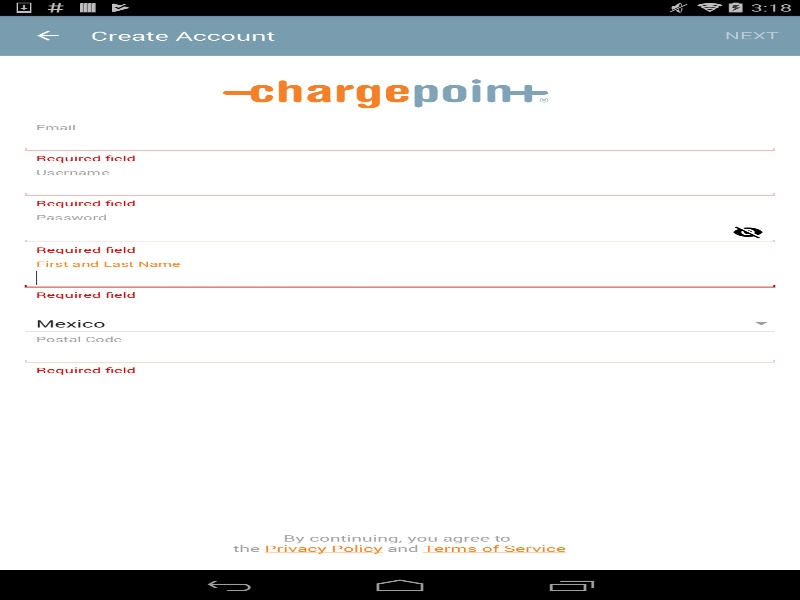Button: (10, 15, 85, 55)
Input: (20, 220, 780, 244), (20, 130, 780, 153), (20, 175, 780, 198), (20, 266, 780, 289), (20, 342, 780, 364)
